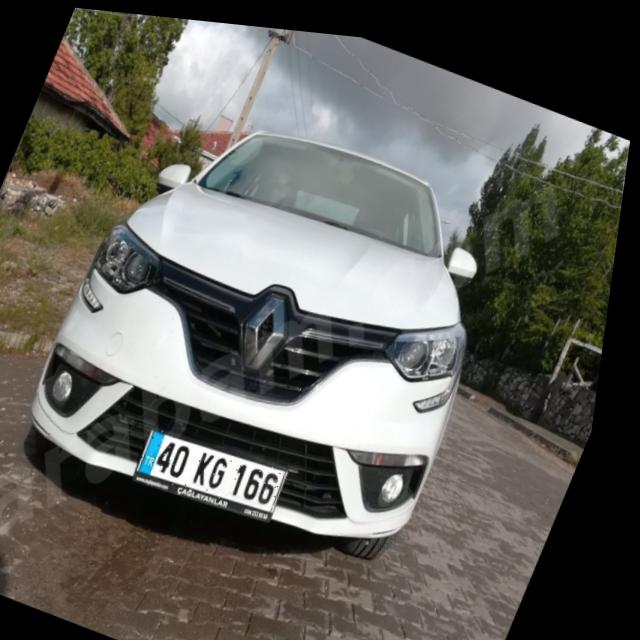license_plate: (144, 414, 303, 515)
